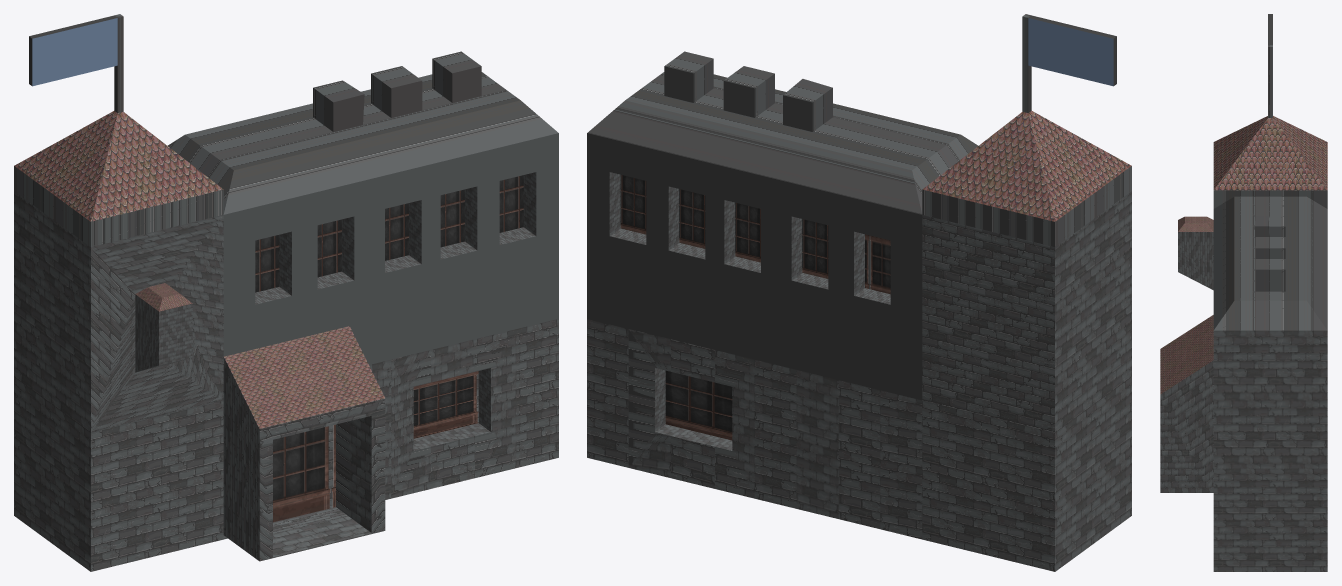
File: flagHouseTextured.fbx
3 renders of one model, left to right at view 1: azimuth 30°, elevation 25°; view 2: azimuth 150°, elevation 25°; view 3: azimuth 270°, elevation 25°, orthographic. The views are drawn at different scales.
Visible parts, largest first — view 1: Cube.057; view 2: Cube.057; view 3: Cube.057.
Part boxes in pixels (box(x1,y1,x2,y2)): Cube.057: box(14, 14, 558, 571); Cube.057: box(587, 14, 1131, 571); Cube.057: box(1160, 14, 1327, 571).
Bounding box in the file's own units: 738 × 736 × 293.
